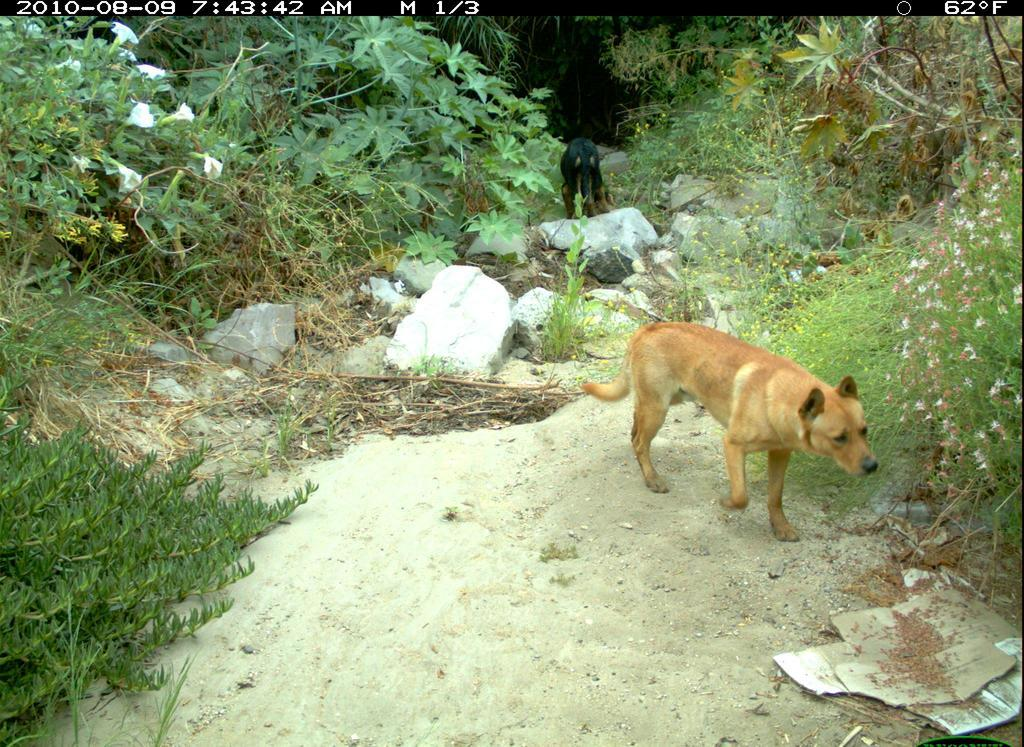dog: (582, 306, 888, 551), (548, 134, 628, 226)
